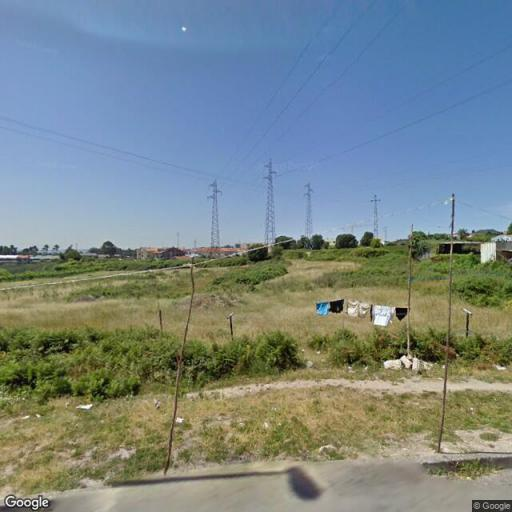ss_1: (370, 191, 382, 238)
ss_4: (263, 157, 278, 248), (207, 176, 223, 250), (302, 180, 316, 238)
